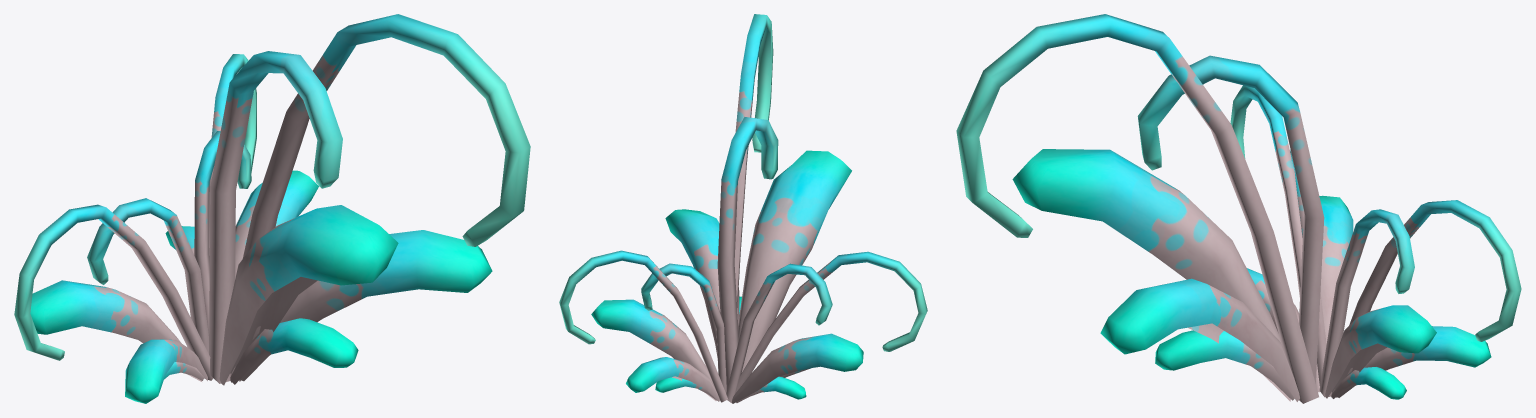
File: nazonokusa_blue.fbx
3 views of the same model, side by side, from view 1: azimuth 30°, elevation 25°; view 2: azimuth 150°, elevation 25°; view 3: azimuth 270°, elevation 25° (orthographic). The views are drawn at different scales.
Visible parts, largest first — view 1: nazonokusa_blue; view 2: nazonokusa_blue; view 3: nazonokusa_blue.
Part boxes in pixels (bbox=[...]): nazonokusa_blue: bbox=[14, 14, 530, 403]; nazonokusa_blue: bbox=[559, 14, 927, 403]; nazonokusa_blue: bbox=[956, 14, 1521, 403].
Bounding box in the file's own units: 303 × 291 × 359.
